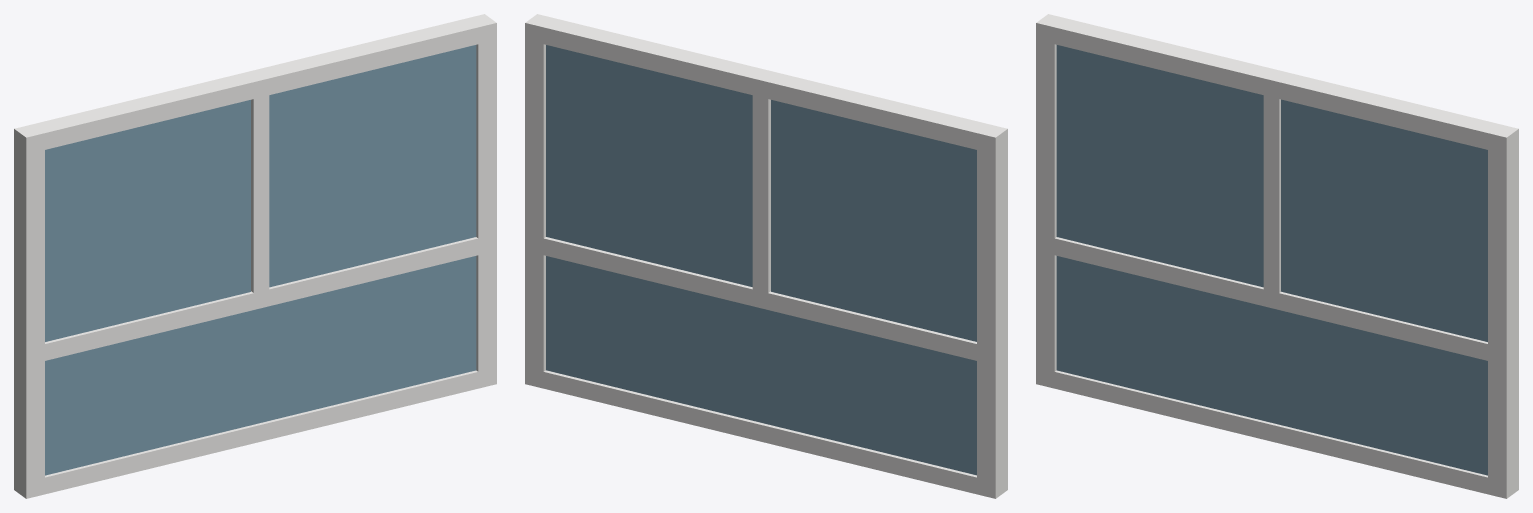
Rendered from Window_7.fbx.
The picture shows the model from 3 angles, left to right: view 1: azimuth 30°, elevation 25°; view 2: azimuth 150°, elevation 25°; view 3: azimuth 330°, elevation 25°; orthographic projection.
Parts seen in each view (by area): view 1: Window_7; view 2: Window_7; view 3: Window_7.
Part boxes in pixels (x1,y1,x2,y2): Window_7: (14, 14, 496, 498); Window_7: (525, 14, 1007, 498); Window_7: (1036, 14, 1518, 498).
Bounding box in the file's own units: 352 × 15.75 × 259.
